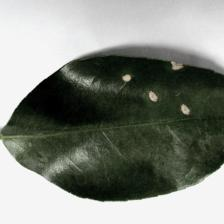canker: (111, 45, 206, 120)
